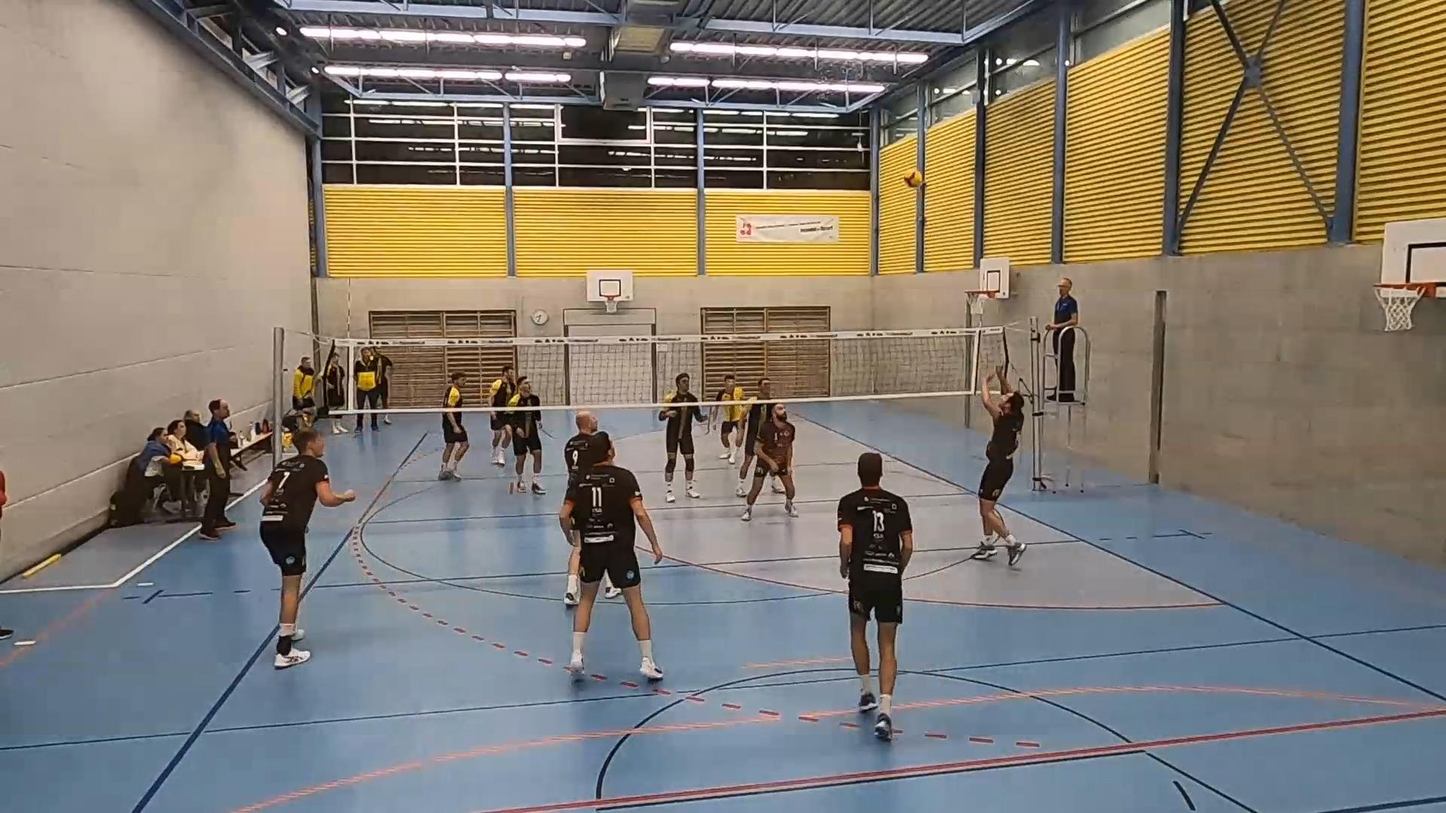alzata: (970, 367, 1029, 565)
